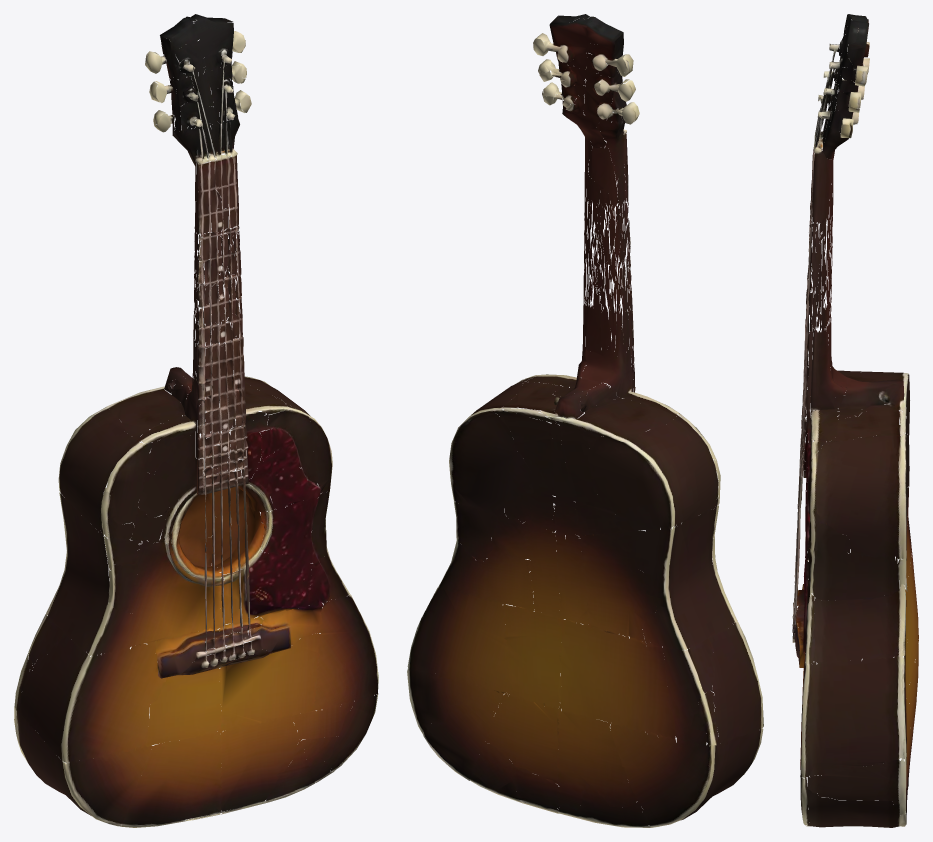
File: guitar.glb
The picture shows the model from 3 angles, left to right: view 1: azimuth 30°, elevation 25°; view 2: azimuth 150°, elevation 25°; view 3: azimuth 270°, elevation 25°; orthographic projection.
Visible parts, largest first — view 1: guitar; view 2: guitar; view 3: guitar.
Boxes of the visible parts, x1=… form: guitar: x1=14, y1=14, x2=378, y2=827; guitar: x1=407, y1=14, x2=763, y2=827; guitar: x1=792, y1=14, x2=918, y2=827.
Bounding box in the file's own units: 0.2297 × 0.5501 × 0.0817.
1 material, 1 textured.
